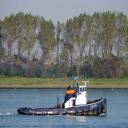tugboat: (18, 68, 109, 119)
